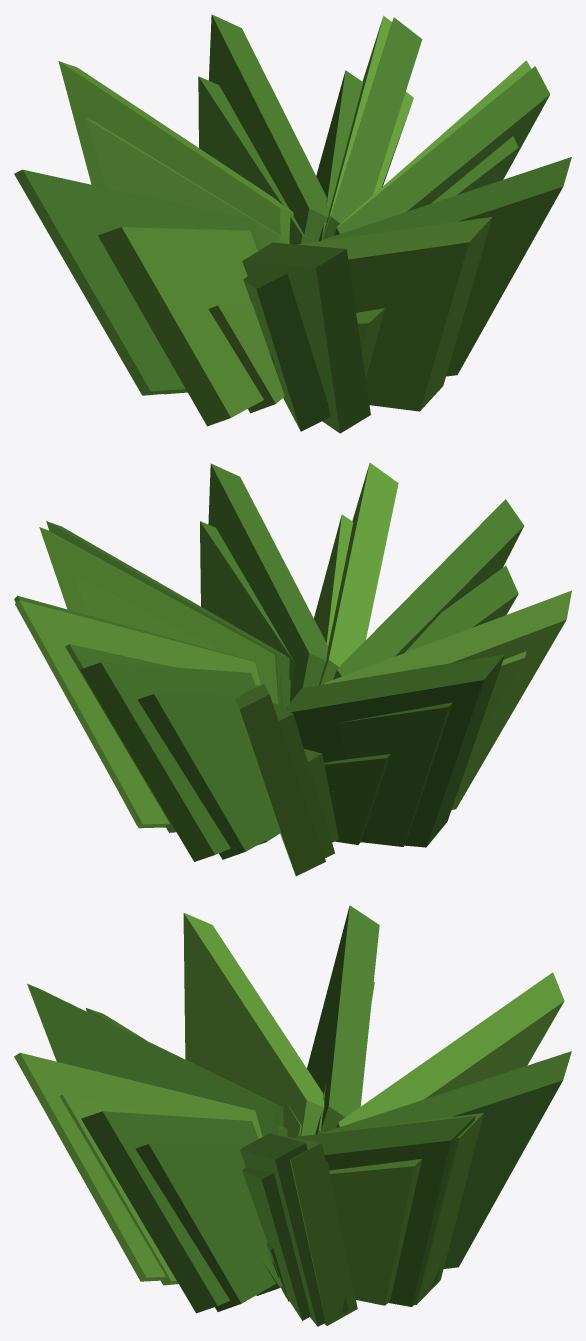
Rendered from Crop_Veg_Spinach.fbx.
The picture shows the model from 3 angles, top to bottom: view 1: azimuth 30°, elevation 25°; view 2: azimuth 150°, elevation 25°; view 3: azimuth 270°, elevation 25°; orthographic projection. The views are drawn at different scales.
Parts seen in each view (by area): view 1: Crop_Veg_Spinach__S4, Crop_Veg_Spinach__S3, Crop_Veg_Spinach__S2; view 2: Crop_Veg_Spinach__S4, Crop_Veg_Spinach__S3, Crop_Veg_Spinach__S2; view 3: Crop_Veg_Spinach__S4, Crop_Veg_Spinach__S3, Crop_Veg_Spinach__S5.
Boxes of the visible parts, bbox=[...] form: Crop_Veg_Spinach__S4: bbox=[14, 14, 571, 433]; Crop_Veg_Spinach__S3: bbox=[85, 70, 518, 431]; Crop_Veg_Spinach__S2: bbox=[208, 302, 385, 413]; Crop_Veg_Spinach__S4: bbox=[14, 462, 571, 876]; Crop_Veg_Spinach__S3: bbox=[65, 514, 526, 859]; Crop_Veg_Spinach__S2: bbox=[257, 749, 390, 845]; Crop_Veg_Spinach__S4: bbox=[14, 905, 571, 1326]; Crop_Veg_Spinach__S3: bbox=[59, 982, 421, 1320]; Crop_Veg_Spinach__S5: bbox=[256, 1240, 289, 1301].
Size of the model in its own units: 0.125 by 0.0631 by 0.1238.
